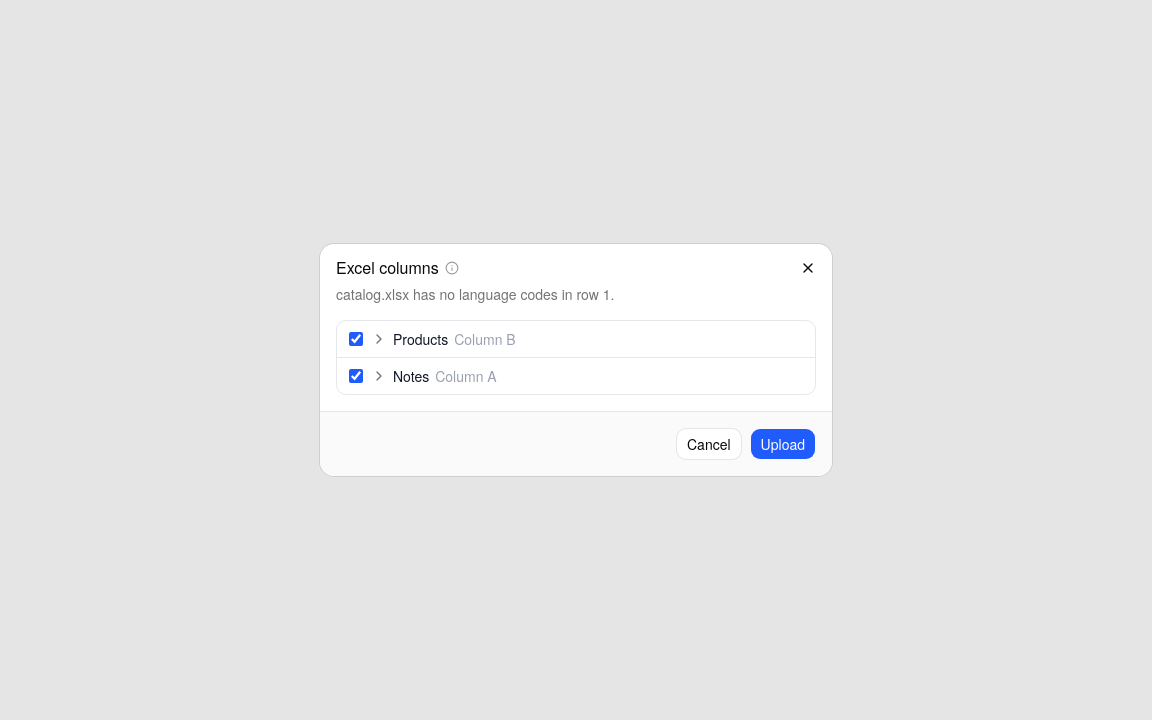
Test: XLSXLayoutDialog › offers no Select all for a sheet with one column
Click the button with test id "xlsx-sheet-Notes-toggle".
click(434, 376)  # box 371,366 -> 497,386
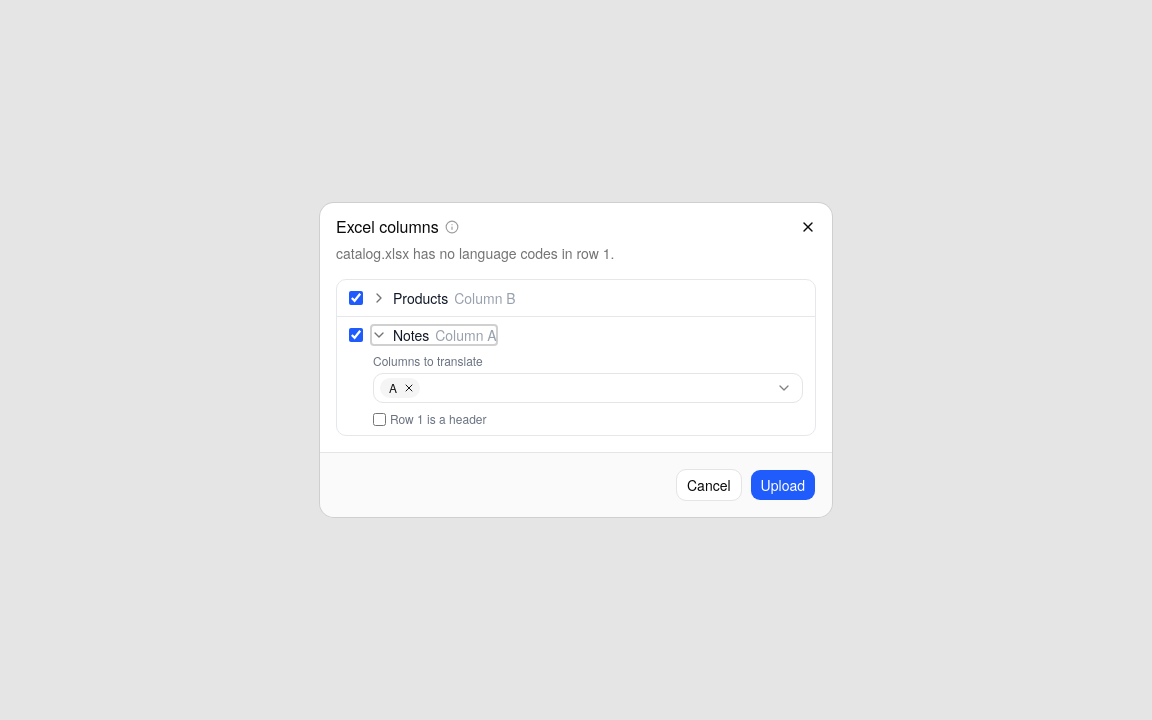
Expected: the button with test id "xlsx-sheet-Notes-columns" is shown, 373,373 -> 803,403
